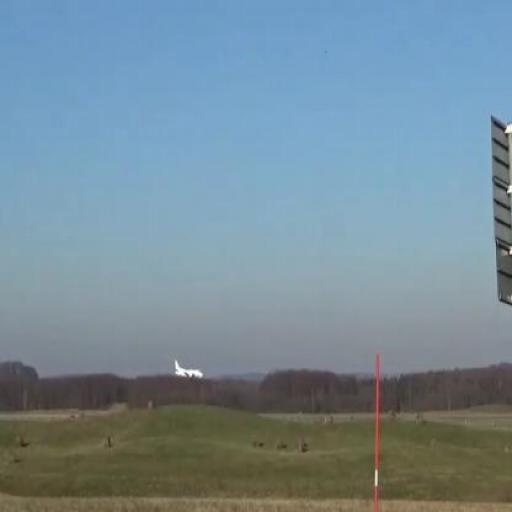aircraft: (174, 359, 204, 379)
